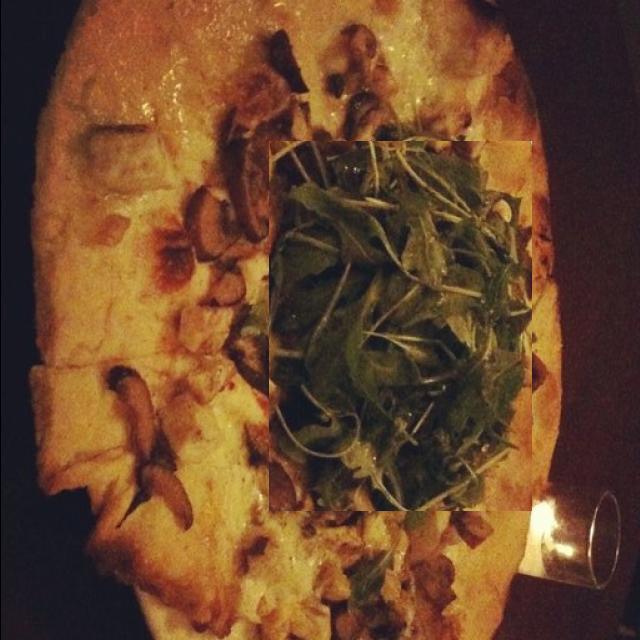basil: (268, 141, 531, 511)
pizza: (28, 3, 560, 640)
